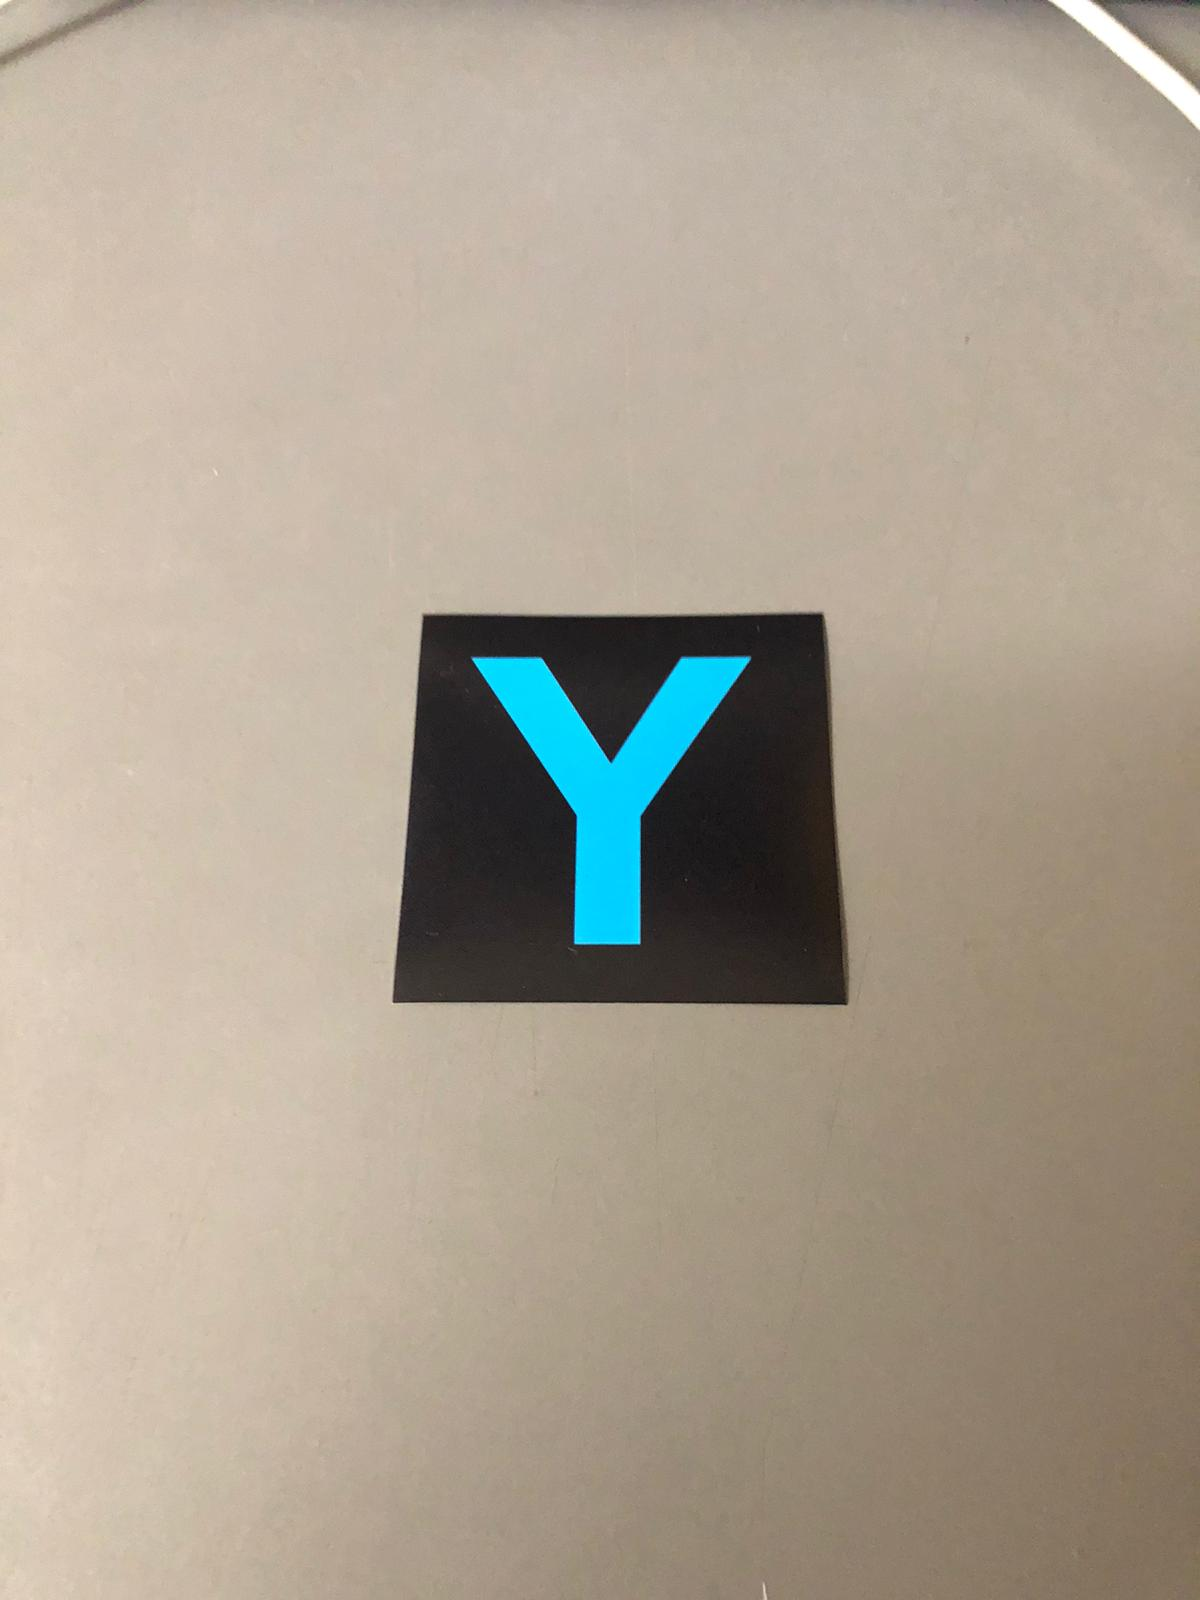Y: (410, 622, 824, 1005)
